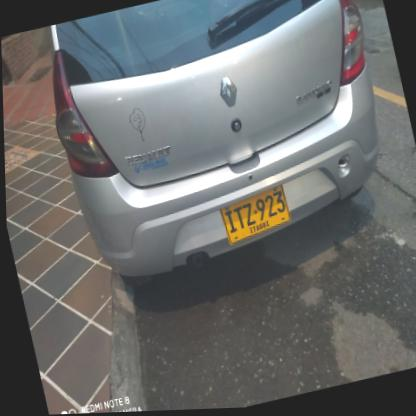placa: (208, 182, 296, 251)
